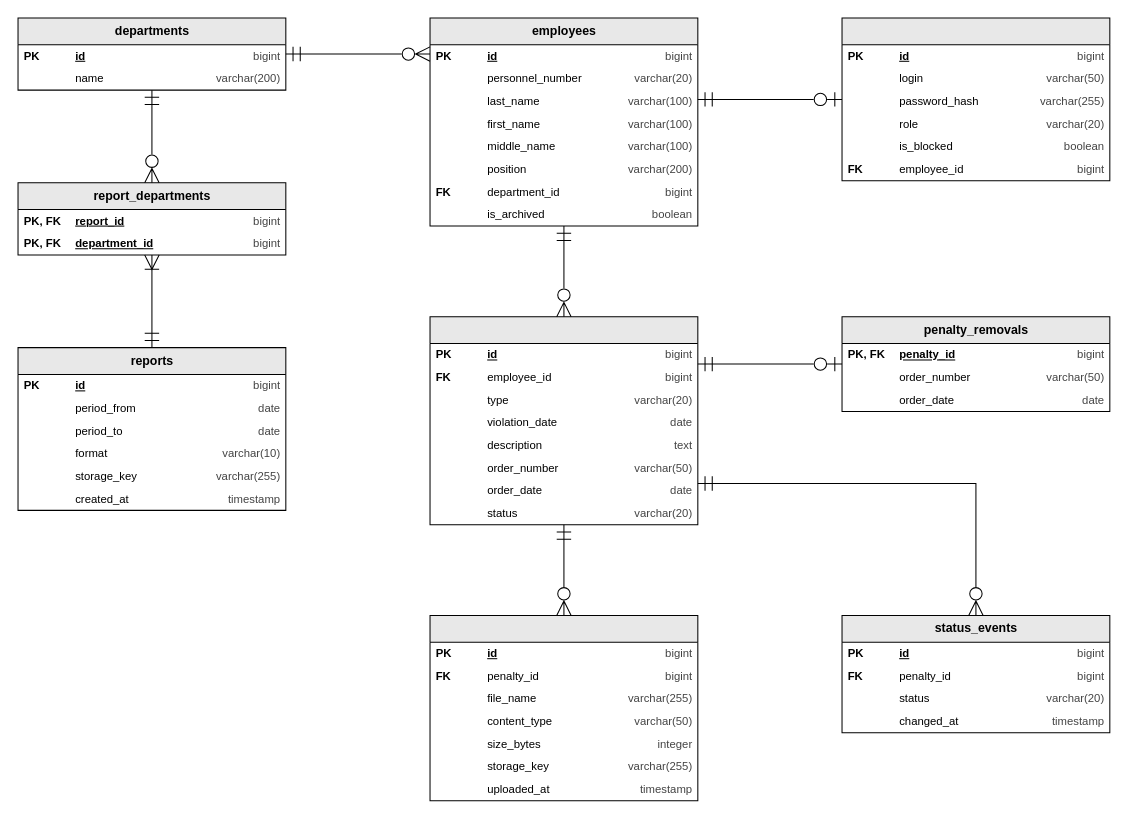
The diagram is 1128 pixels wide and 819 high, and some of its shapes have lost their labels. The box of each missing label's shape, as (x1, y1, x2, y2) in pixels:
attachments: (429, 614, 698, 801)
penalties: (429, 316, 698, 525)
users: (841, 17, 1110, 181)
